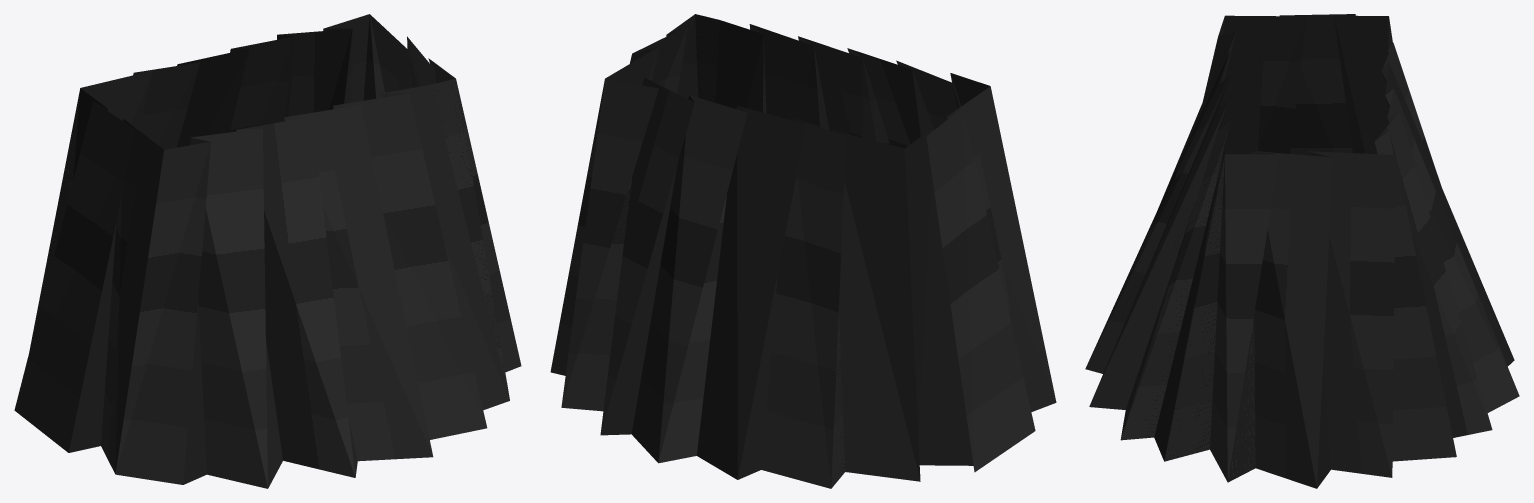
Rendered from skirt.obj.
The picture shows the model from 3 angles, left to right: view 1: azimuth 30°, elevation 25°; view 2: azimuth 150°, elevation 25°; view 3: azimuth 270°, elevation 25°; orthographic projection. The views are drawn at different scales.
Parts seen in each view (by area): view 1: Plane; view 2: Plane; view 3: Plane.
Part boxes in pixels (x1,y1,x2,y2): Plane: (14,14,521,488); Plane: (550,14,1056,488); Plane: (1085,14,1519,488).
Size of the model in its own units: 3.03 by 2 by 2.66.
1 material, 1 textured.
